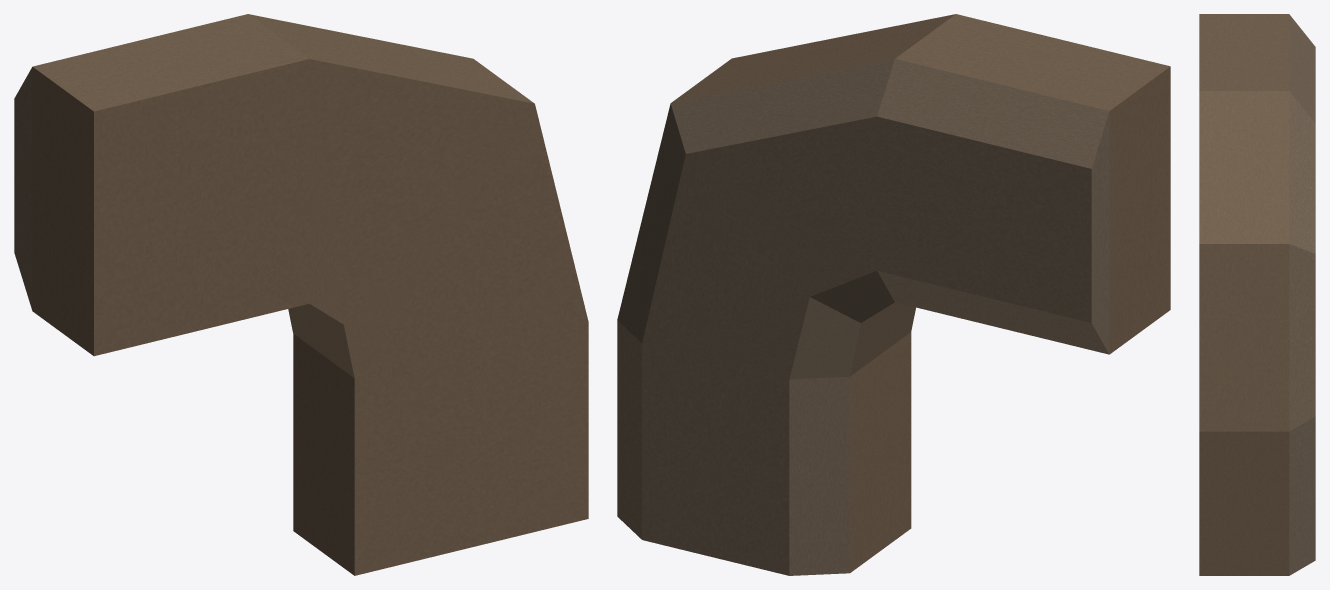
The model's file is de_desert_4.fbx.
3 views of the same model, side by side, from view 1: azimuth 30°, elevation 25°; view 2: azimuth 150°, elevation 25°; view 3: azimuth 270°, elevation 25° (orthographic). The views are drawn at different scales.
Parts seen in each view (by area): view 1: Cube.312; view 2: Cube.312; view 3: Cube.312.
Boxes of the visible parts, box(x1,y1,x2,y2) form: Cube.312: box(14, 14, 588, 575); Cube.312: box(617, 14, 1170, 575); Cube.312: box(1199, 14, 1315, 575).
Bounding box in the file's own units: 372 × 379 × 103.
